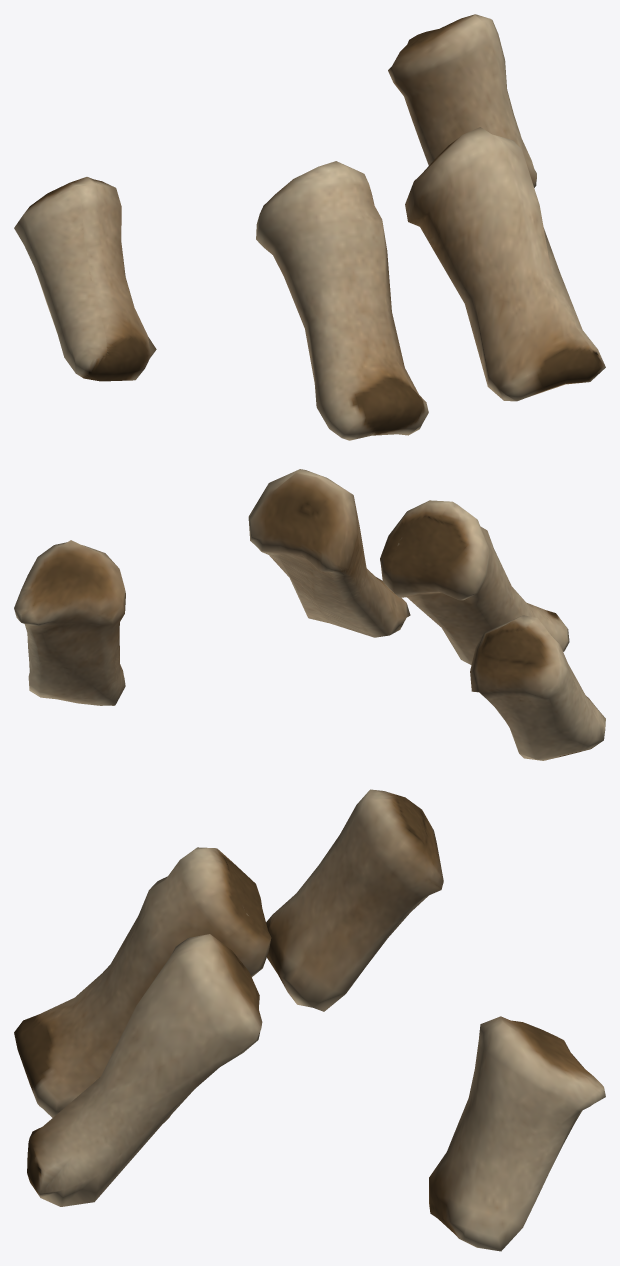
File: Middle Phalanges.glb
3 renders of one model, top to bottom at view 1: azimuth 30°, elevation 25°; view 2: azimuth 150°, elevation 25°; view 3: azimuth 270°, elevation 25°, orthographic. The views are drawn at different scales.
Parts seen in each view (by area): view 1: polySurface42, polySurface41, polySurface40, polySurface43; view 2: polySurface42, polySurface43, polySurface41, polySurface40; view 3: polySurface42, polySurface43, polySurface41, polySurface40.
Boxes of the visible parts, x1,y1,x2,y2 form: polySurface42: (405,127,605,401); polySurface41: (256,161,428,440); polySurface40: (14,177,156,381); polySurface43: (388,14,536,187); polySurface42: (248,469,410,637); polySurface43: (14,540,125,705); polySurface41: (380,500,569,664); polySurface40: (470,615,605,760); polySurface42: (27,934,262,1206); polySurface43: (429,1016,605,1251); polySurface41: (14,847,271,1117); polySurface40: (266,789,443,1011).
Bounding box in the file's own units: 37.64 × 14.77 × 30.97.
Materials: 1 (1 with a texture image).
